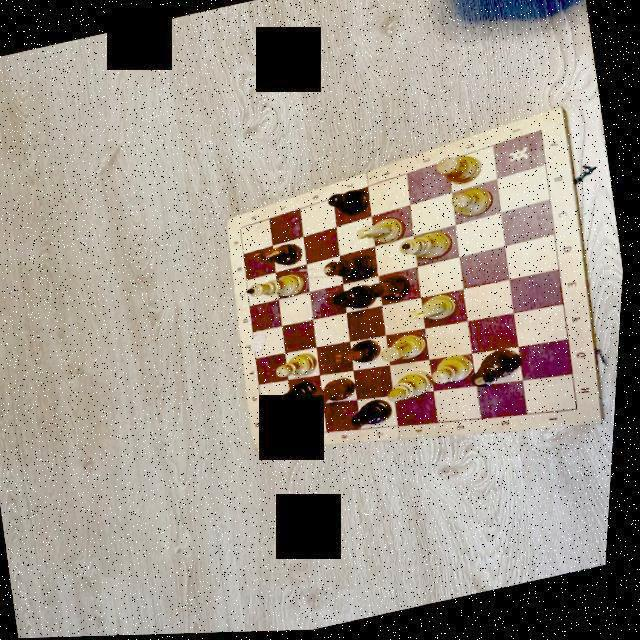chess-table-corners: (237, 223, 250, 234), (574, 407, 588, 417), (536, 128, 549, 138), (266, 433, 276, 442)
